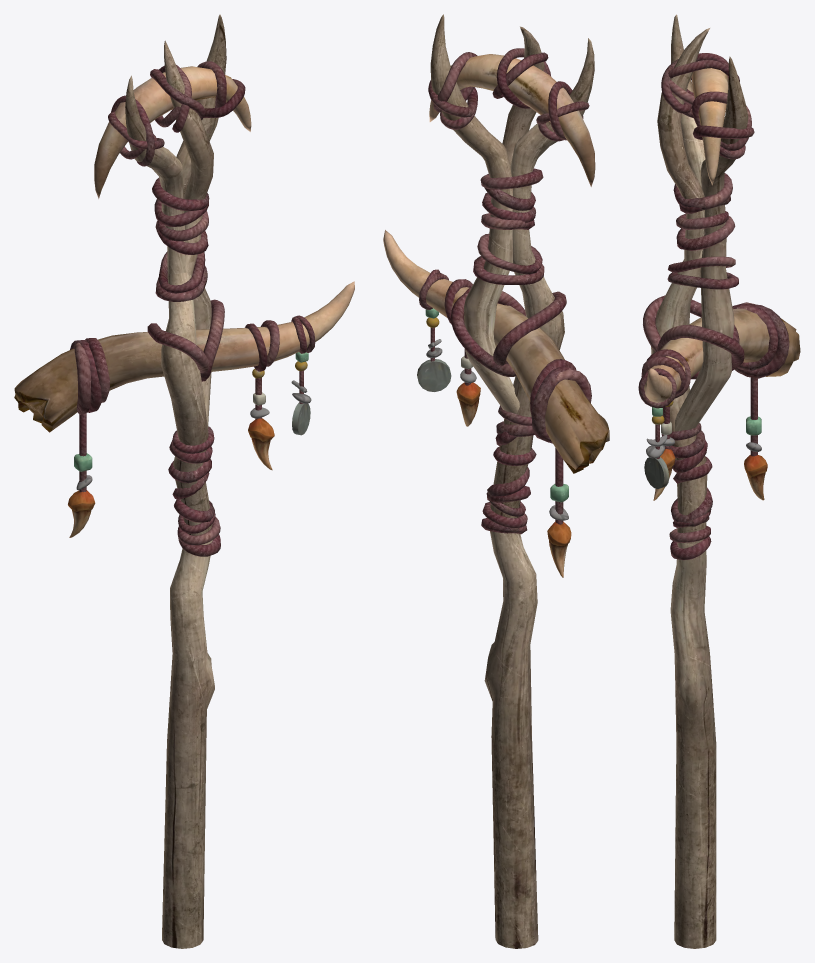
3 views of the same model, side by side, from view 1: azimuth 30°, elevation 25°; view 2: azimuth 150°, elevation 25°; view 3: azimuth 270°, elevation 25° (orthographic). The views are drawn at different scales.
Visible parts, largest first — view 1: SM_Dec_Garou_Set_SM_Trophy_01_LOD0; view 2: SM_Dec_Garou_Set_SM_Trophy_01_LOD0; view 3: SM_Dec_Garou_Set_SM_Trophy_01_LOD0.
Part boxes in pixels (left/top/right/bottom): SM_Dec_Garou_Set_SM_Trophy_01_LOD0: left=14, top=14, right=354, bottom=948; SM_Dec_Garou_Set_SM_Trophy_01_LOD0: left=383, top=14, right=609, bottom=948; SM_Dec_Garou_Set_SM_Trophy_01_LOD0: left=638, top=14, right=800, bottom=948.
Size of the model in its own units: 0.8129 by 2.54 by 0.4092.
1 material, 1 textured.
